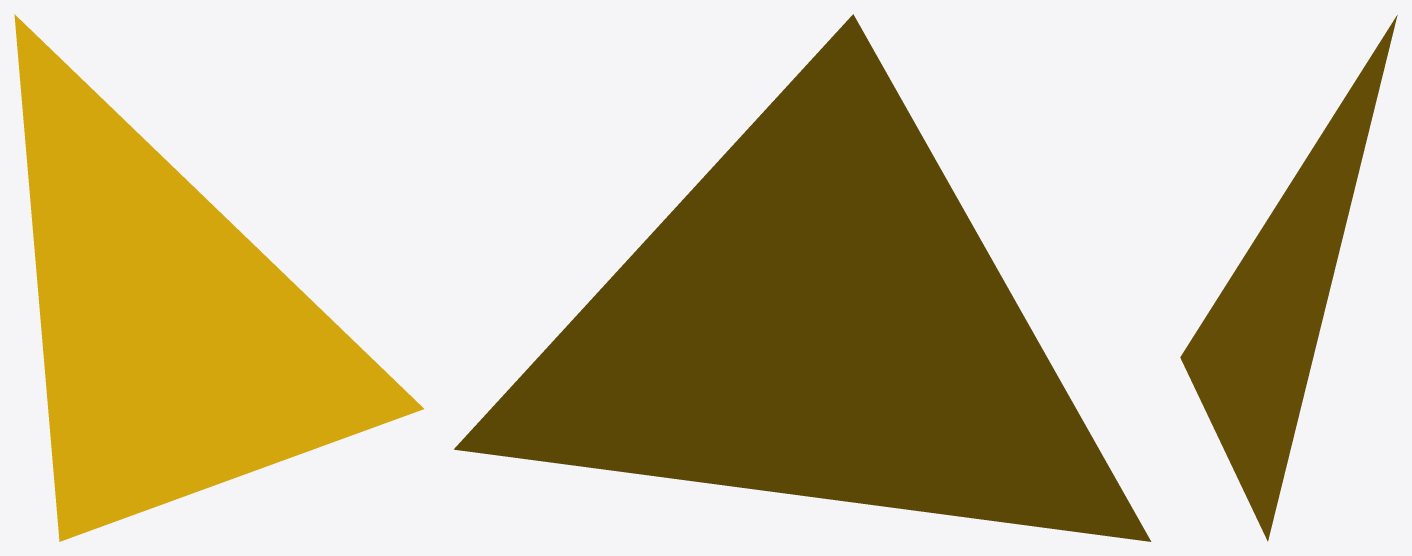
File: Particle_Shape3.fbx
3 views of the same model, side by side, from view 1: azimuth 30°, elevation 25°; view 2: azimuth 150°, elevation 25°; view 3: azimuth 270°, elevation 25° (orthographic). The views are drawn at different scales.
Visible parts, largest first — view 1: pCylinder1; view 2: pCylinder1; view 3: pCylinder1.
Part boxes in pixels (x1,y1,x2,y2): pCylinder1: (14,14,423,541); pCylinder1: (454,14,1151,541); pCylinder1: (1180,15,1397,541).
Size of the model in its own units: 47.96 by 46.97 by 24.36.
